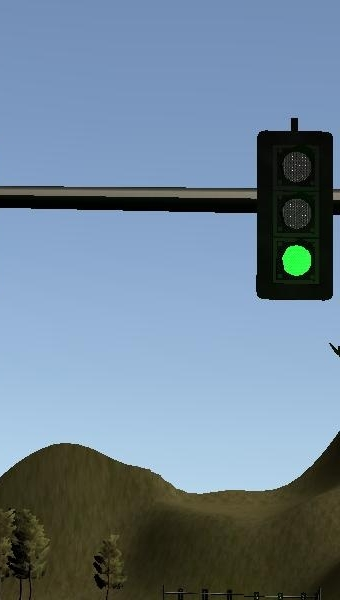Green: (254, 128, 335, 301)
